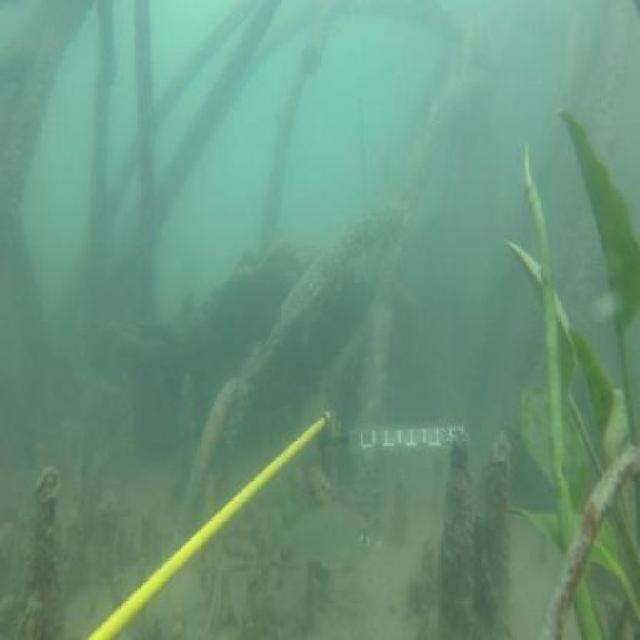gerres: (248, 499, 384, 586)
